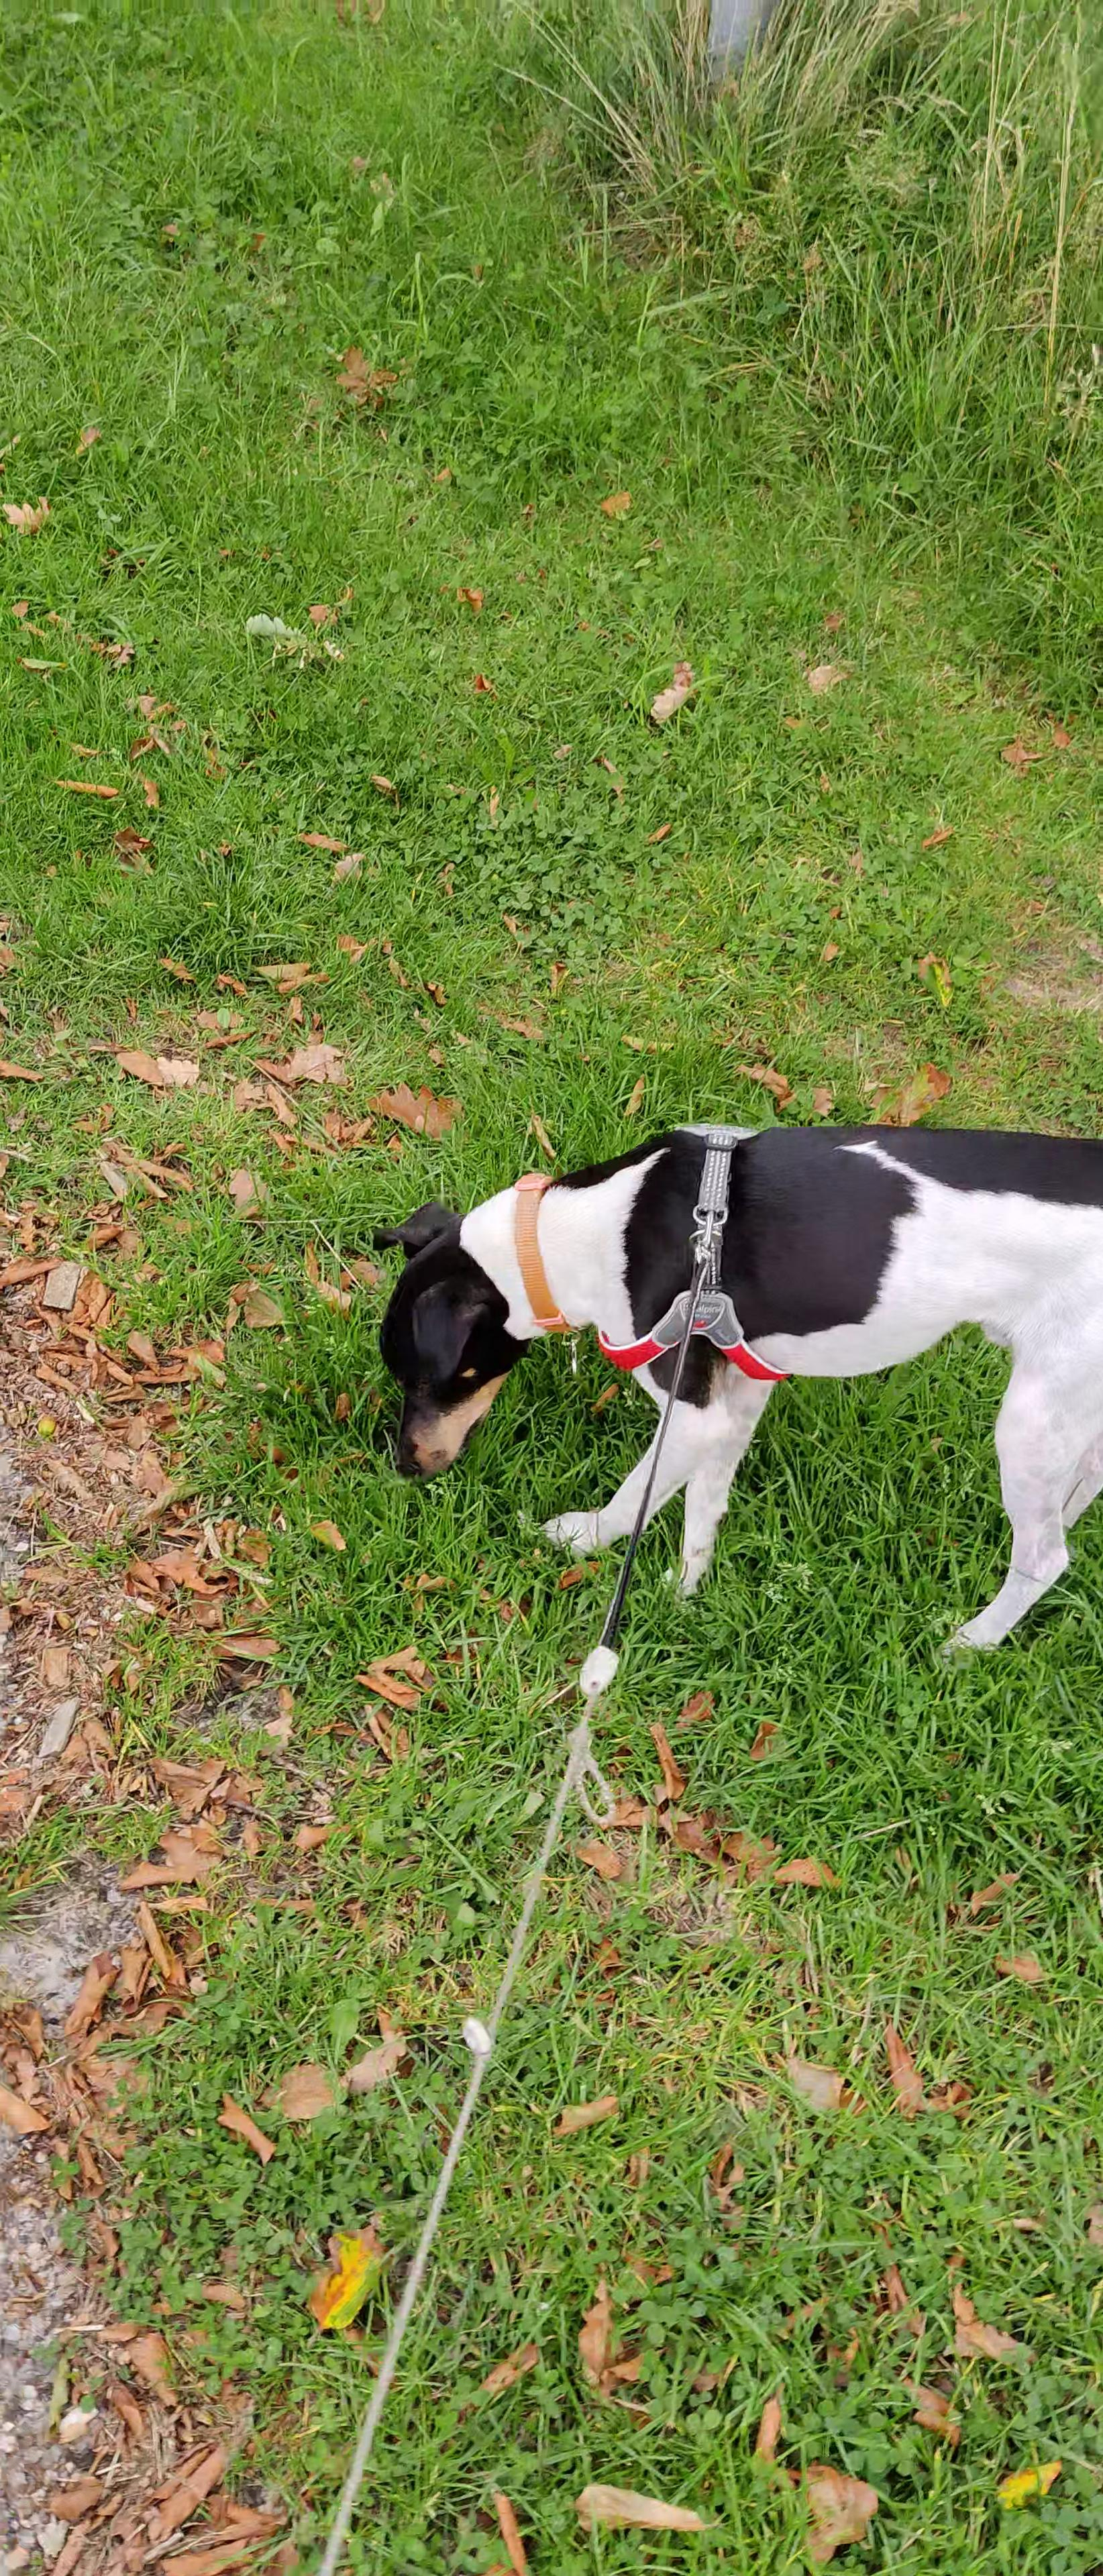Dog: (355, 1099, 1103, 1656)
